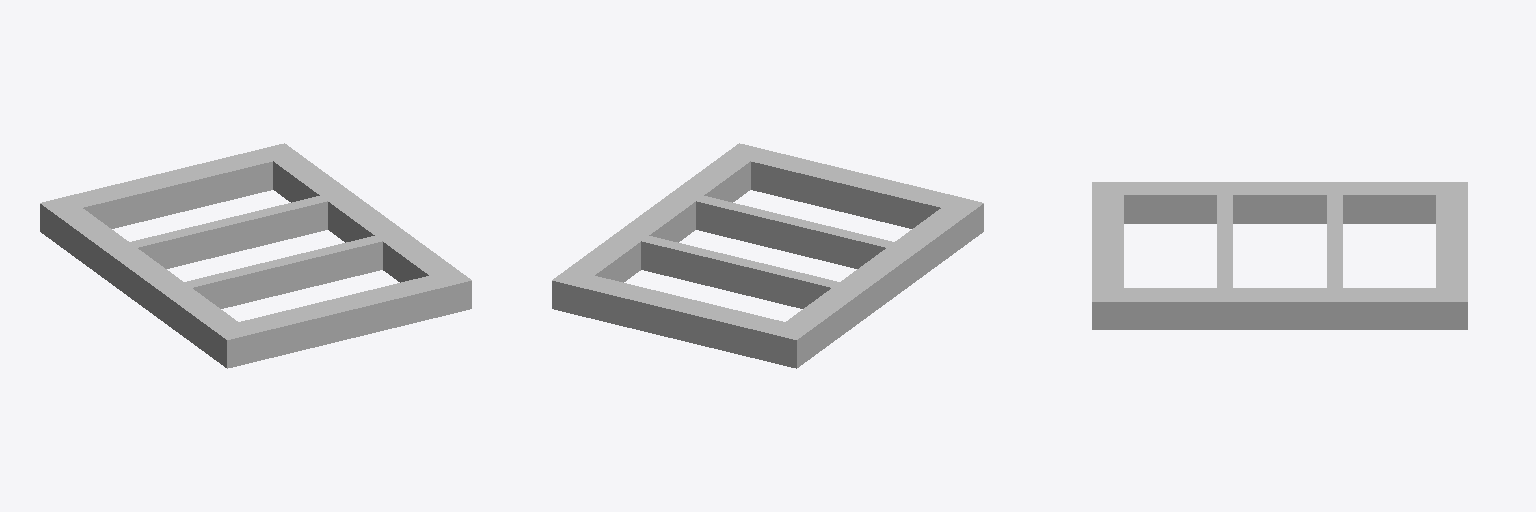
The model's file is finestra_6.obj.
The picture shows the model from 3 angles: view 1: azimuth 30°, elevation 25°; view 2: azimuth 150°, elevation 25°; view 3: azimuth 270°, elevation 25°; orthographic projection.
Bounding box in the file's own units: 0.9 × 0.1 × 1.19.